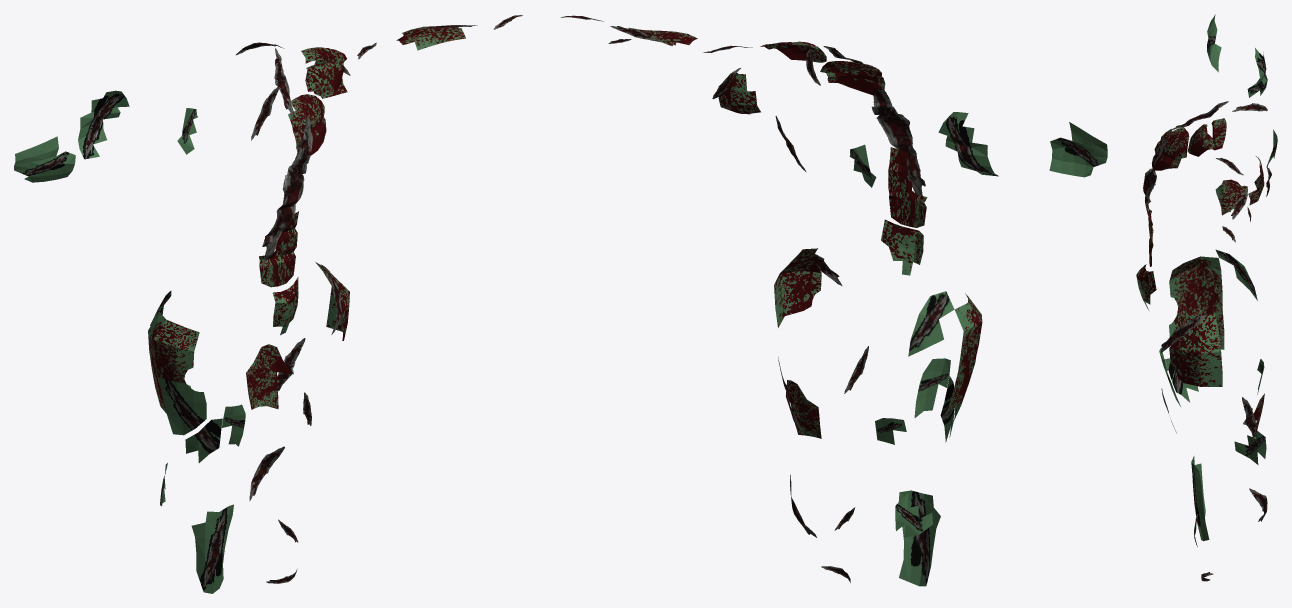
Rendered from wounds.obj.
3 renders of one model, left to right at view 1: azimuth 30°, elevation 25°; view 2: azimuth 150°, elevation 25°; view 3: azimuth 270°, elevation 25°, orthographic. The views are drawn at different scales.
Parts seen in each view (by area): view 1: 43324ef0_obj, 43321768_obj, 4331e0c0_obj, 4332bf90_obj, 4331ba40_obj, 43328fd8_obj; view 2: 43324ef0_obj, 4331e0c0_obj, 43321768_obj, 4332bf90_obj, 43328fd8_obj, 4331ba40_obj; view 3: 43321768_obj, 43324ef0_obj, 4331ba40_obj, 4331e0c0_obj, 4332bf90_obj, 43328fd8_obj.
Boxes of the visible parts, left/top/right/bottom form: 43324ef0_obj: left=14, top=90, right=245, bottom=593; 43321768_obj: left=246, top=27, right=465, bottom=409; 4331e0c0_obj: left=259, top=60, right=347, bottom=335; 4332bf90_obj: left=236, top=15, right=522, bottom=583; 4331ba40_obj: left=148, top=312, right=199, bottom=413; 43328fd8_obj: left=262, top=48, right=312, bottom=264; 43324ef0_obj: left=849, top=112, right=1107, bottom=586; 4331e0c0_obj: left=718, top=61, right=927, bottom=275; 43321768_obj: left=628, top=27, right=826, bottom=438; 4332bf90_obj: left=560, top=15, right=868, bottom=582; 43328fd8_obj: left=823, top=46, right=925, bottom=195; 4331ba40_obj: left=947, top=293, right=982, bottom=411; 43321768_obj: left=1169, top=118, right=1264, bottom=448; 43324ef0_obj: left=1159, top=14, right=1277, bottom=541; 4331ba40_obj: left=1169, top=256, right=1224, bottom=349; 4331e0c0_obj: left=1136, top=127, right=1264, bottom=310; 4332bf90_obj: left=1160, top=103, right=1271, bottom=581; 43328fd8_obj: left=1143, top=101, right=1228, bottom=223.
Bounding box in the file's own units: 1.56 × 1.54 × 0.3985.
Materials: 6 (6 with a texture image).
